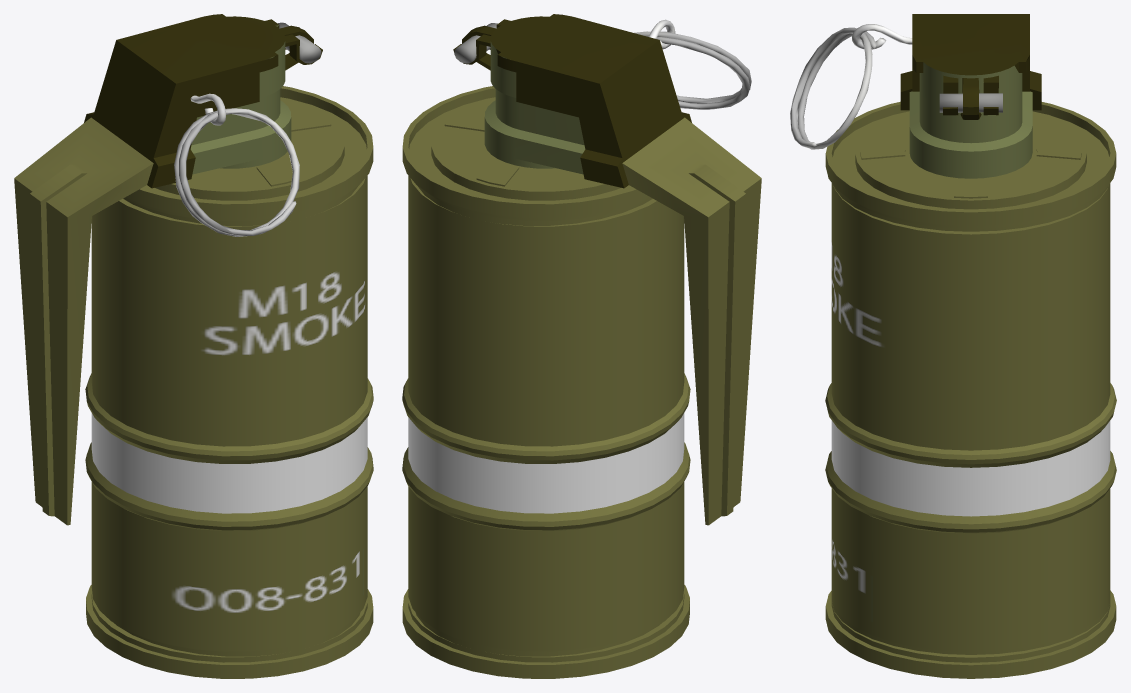
Rendered from AuthenticSmokeGrenade.fbx.
3 renders of one model, left to right at view 1: azimuth 30°, elevation 25°; view 2: azimuth 150°, elevation 25°; view 3: azimuth 270°, elevation 25°, orthographic.
Visible parts, largest first — view 1: Canister; view 2: Canister; view 3: Canister.
Boxes of the visible parts, x1=… form: Canister: x1=14, y1=14, x2=373, y2=678; Canister: x1=402, y1=14, x2=761, y2=678; Canister: x1=790, y1=14, x2=1116, y2=678.
Size of the model in its own units: 0.0743 by 0.1289 by 0.0672.
